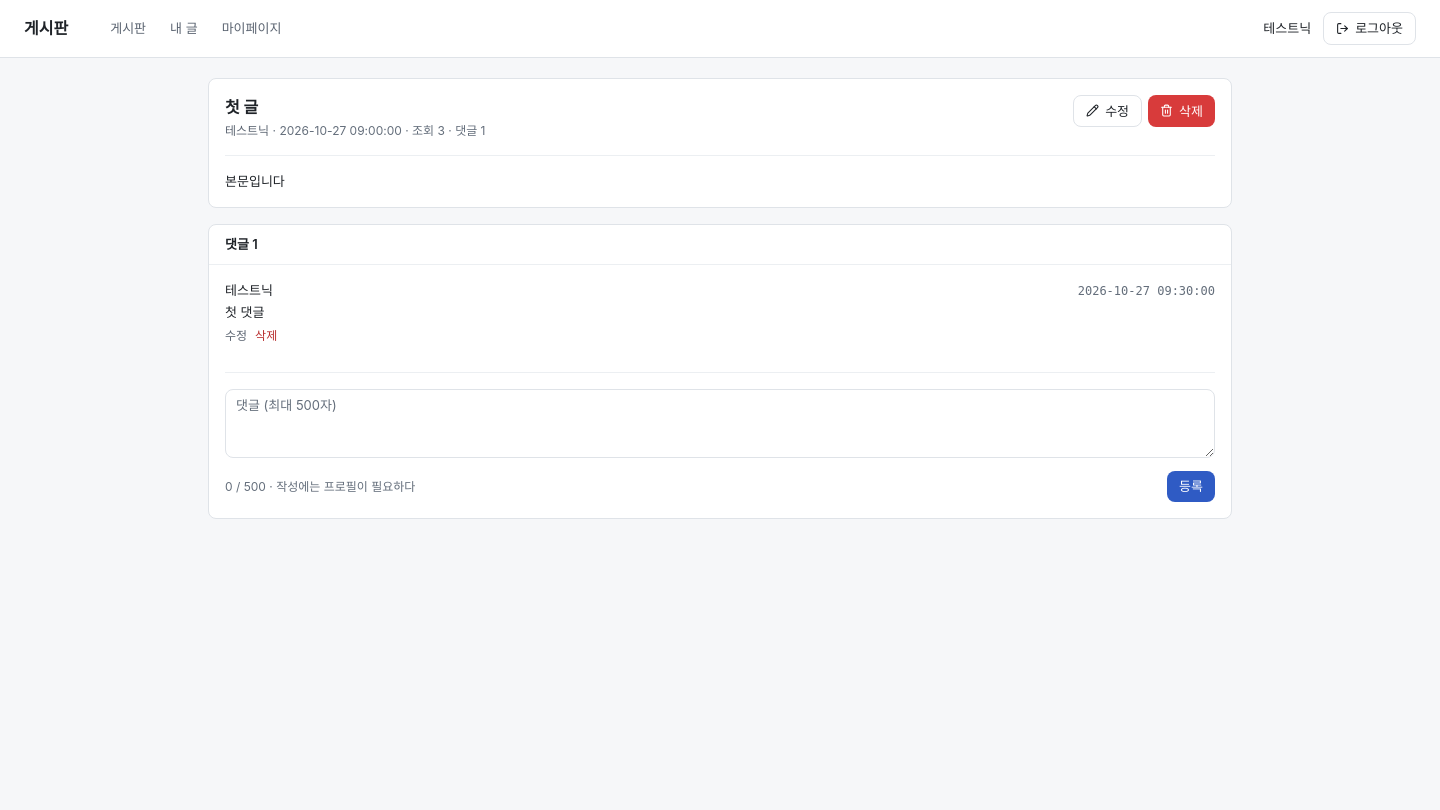
Test: 화면마다 보이는 문구 › 글 상세 — 댓글 삭제 실패 — 검사 목록에 걸리는 것이 없다
Click the button "삭제" below "첫 댓글" at (266, 336), box [255,328,277,344]
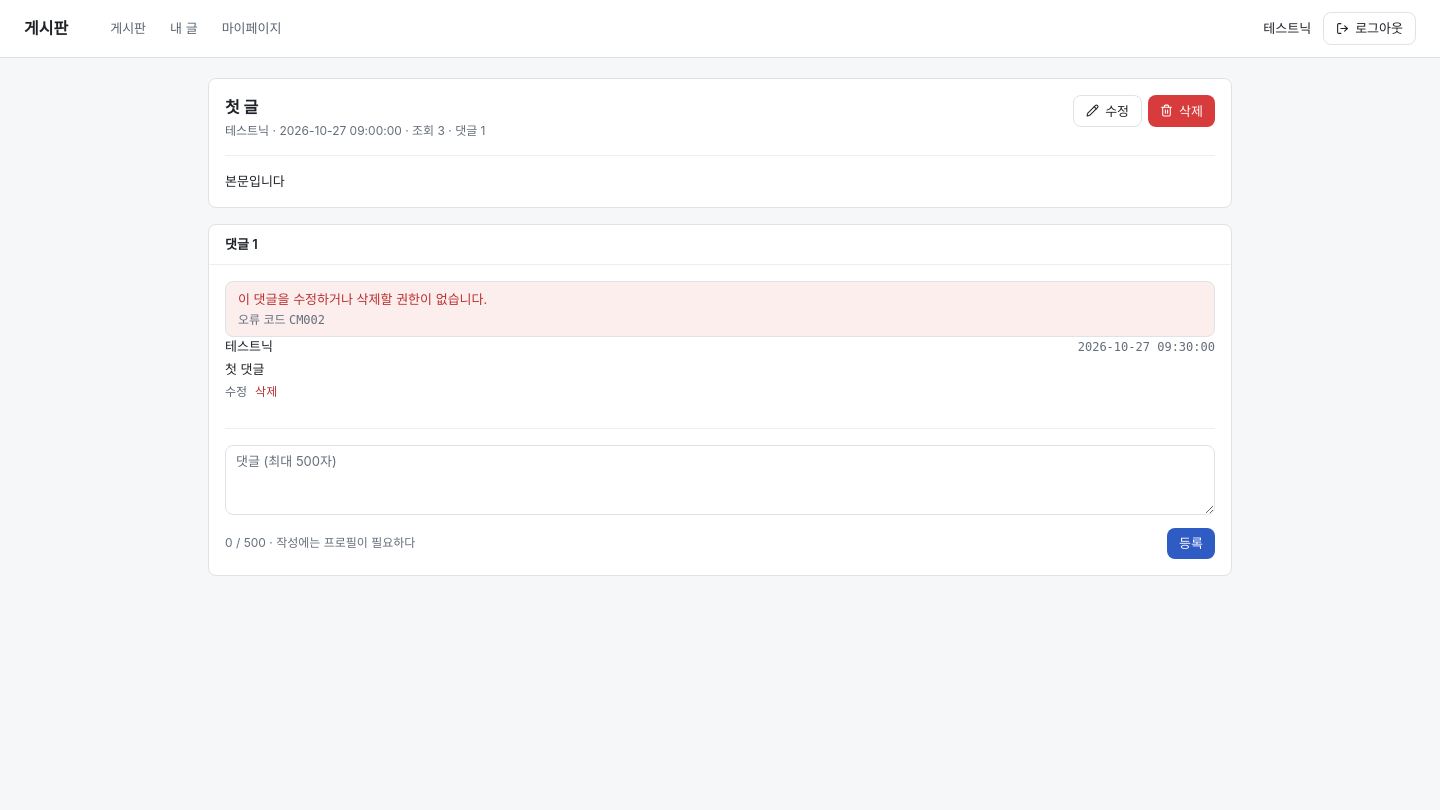
Expected: the element showing "이 댓글을 수정하거나 삭제할 권한이 없습니다. 오류 코드 CM002" is shown, [225,281,1215,337]
